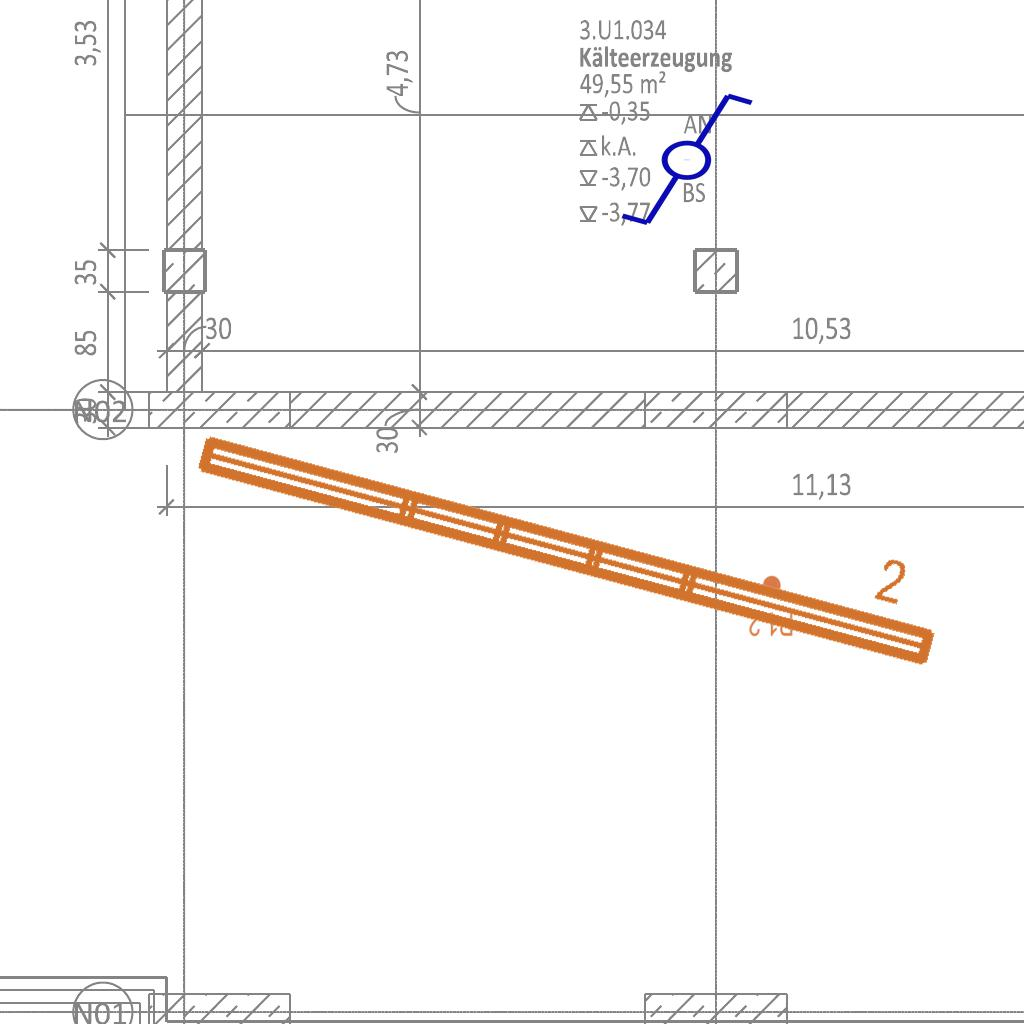Ambulanz_Pendelleuchte_LED: (183, 371, 961, 681)
Downlight_LED_Einbauleuchten_Flur: (748, 574, 794, 638)
Wechselschalter: (600, 86, 757, 230)
